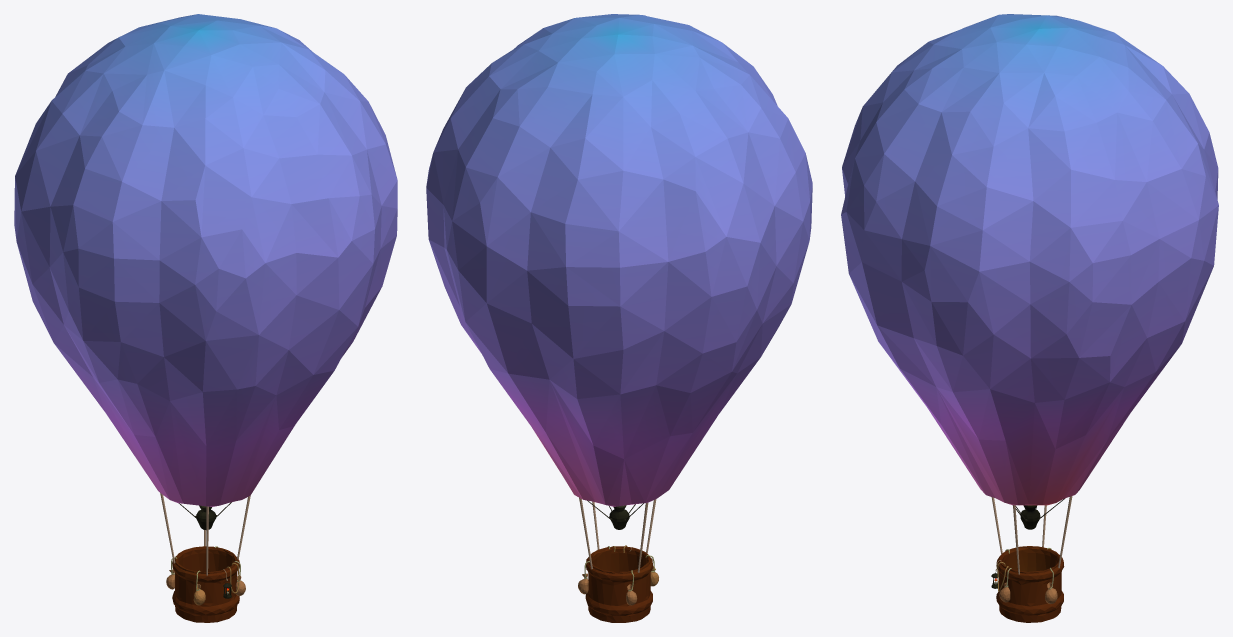
Rendered from baloon.fbx.
The picture shows the model from 3 angles, left to right: view 1: azimuth 30°, elevation 25°; view 2: azimuth 150°, elevation 25°; view 3: azimuth 270°, elevation 25°; orthographic projection.
Parts seen in each view (by area): view 1: Baloon, Baloon-basket; view 2: Baloon, Baloon-basket; view 3: Baloon, Baloon-basket.
Boxes of the visible parts, x1=… form: Baloon: x1=14, y1=14, x2=397, y2=506; Baloon-basket: x1=172, y1=546, x2=239, y2=622; Baloon: x1=426, y1=14, x2=812, y2=506; Baloon-basket: x1=585, y1=546, x2=653, y2=622; Baloon: x1=841, y1=14, x2=1218, y2=505; Baloon-basket: x1=996, y1=546, x2=1064, y2=622.
Bounding box in the file's own units: 10.09 × 17.1 × 10.1.
